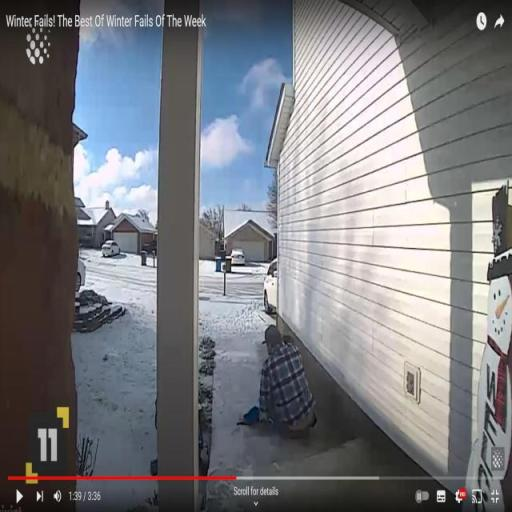Fall: (256, 321, 319, 445)
